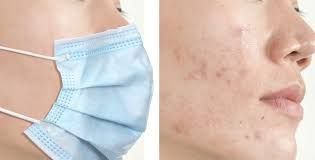no-mask: (160, 1, 315, 160)
with-mask: (1, 1, 154, 160)
